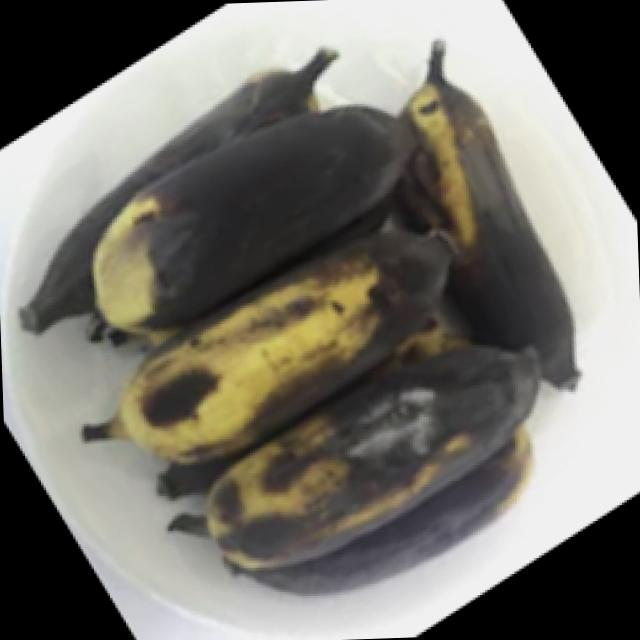Rotten_Banana: (17, 43, 632, 640)
